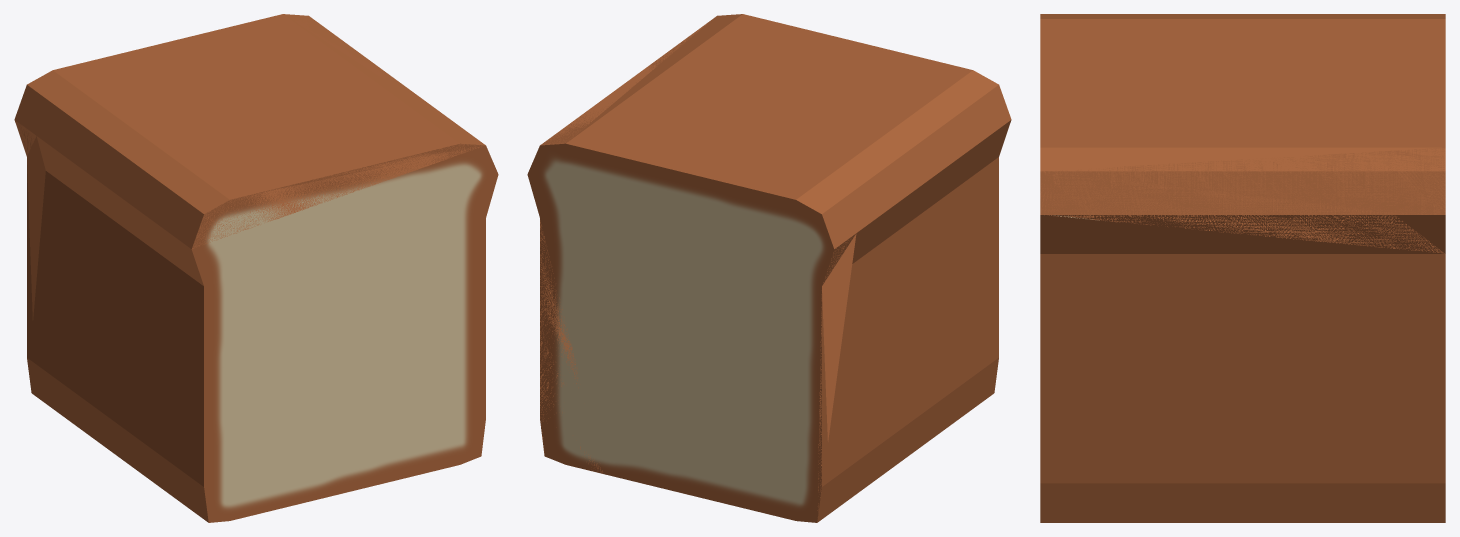
Rendered from bread3.fbx.
The picture shows the model from 3 angles, left to right: view 1: azimuth 30°, elevation 25°; view 2: azimuth 150°, elevation 25°; view 3: azimuth 270°, elevation 25°; orthographic projection. The views are drawn at different scales.
Parts seen in each view (by area): view 1: Cube, Cube.002; view 2: Cube, Cube.002; view 3: Cube, Cube.002.
Boxes of the visible parts, x1,y1,x2,y2 form: Cube: [14, 14, 498, 522]; Cube.002: [15, 14, 481, 320]; Cube: [527, 14, 1011, 522]; Cube.002: [540, 20, 856, 510]; Cube: [1040, 14, 1445, 522]; Cube.002: [1040, 147, 1445, 253].
Bounding box in the file's own units: 200 × 200 × 200.
Materials: 2 (2 with a texture image).
